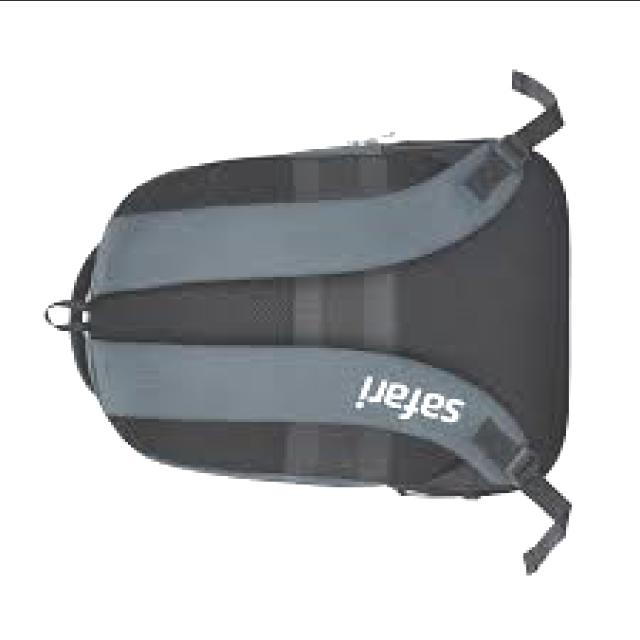backpack: (44, 73, 573, 579)
